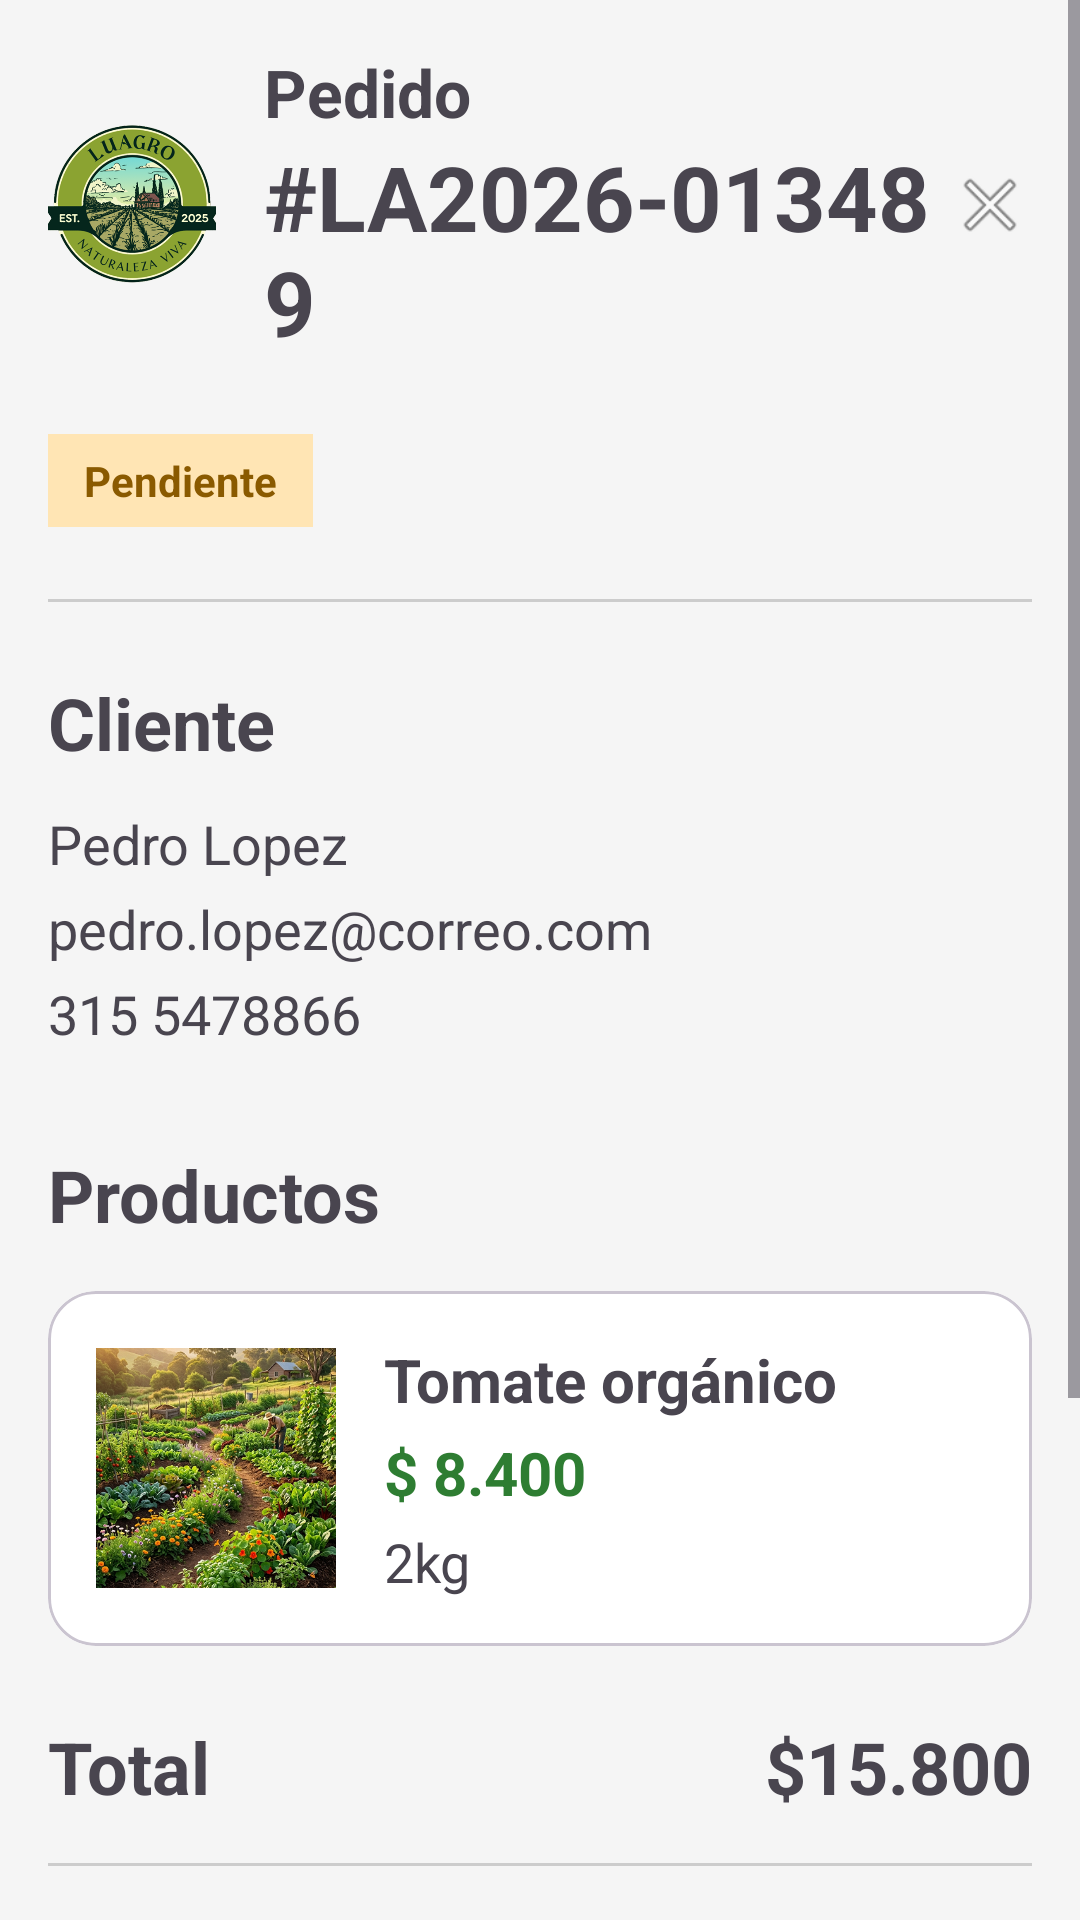

Icon click points for this 1080px×1920px phone screenshot, format point (x, y):
close clear cancel: point (990, 205)
